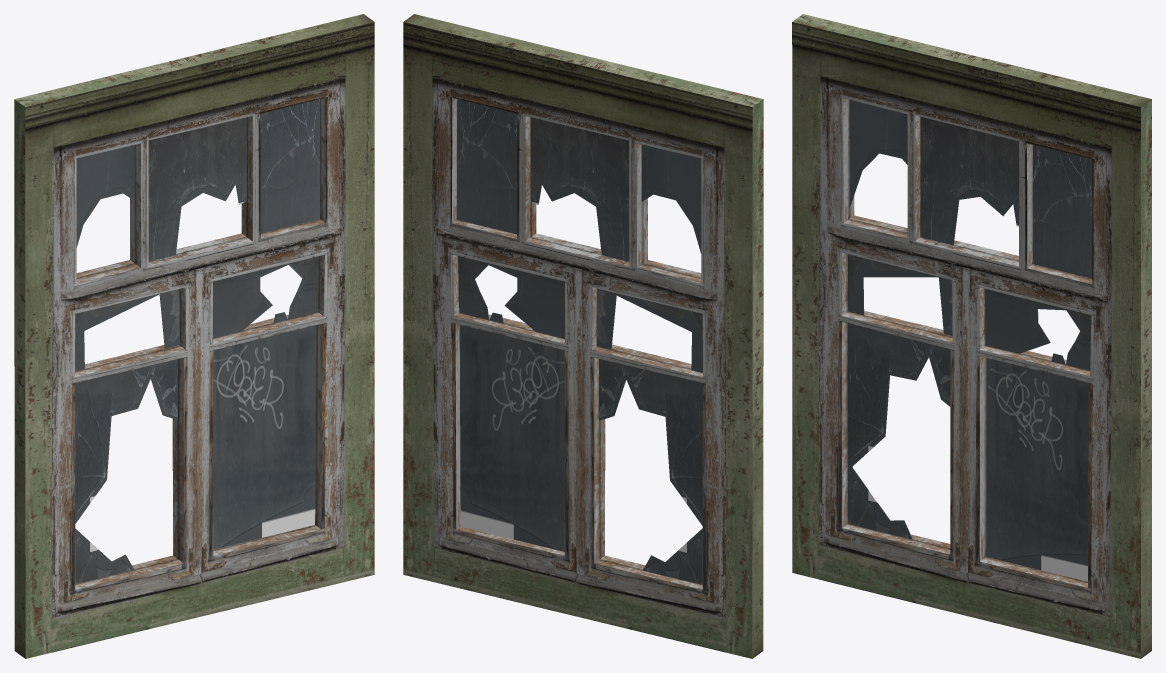
Rendered from Windows_11_2.FBX.
3 views of the same model, side by side, from view 1: azimuth 30°, elevation 25°; view 2: azimuth 150°, elevation 25°; view 3: azimuth 330°, elevation 25° (orthographic).
Parts seen in each view (by area): view 1: Windows_11_2, Windows_11_2glass (×7); view 2: Windows_11_2, Windows_11_2glass (×7); view 3: Windows_11_2, Windows_11_2glass (×7).
Boxes of the visible parts, x1=… form: Windows_11_2: x1=14, y1=14, x2=374, y2=658; Windows_11_2glass (×7): x1=75, y1=99, x2=320, y2=583; Windows_11_2: x1=403, y1=14, x2=763, y2=658; Windows_11_2glass (×7): x1=456, y1=99, x2=702, y2=584; Windows_11_2: x1=792, y1=14, x2=1151, y2=658; Windows_11_2glass (×7): x1=847, y1=100, x2=1092, y2=581.
Size of the model in its own units: 113 by 6.1 by 171.
Materials: 2 (2 with a texture image).
